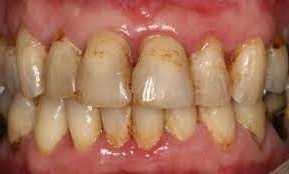Tooth Discoloration: (55, 24, 191, 147), (219, 31, 287, 104)
